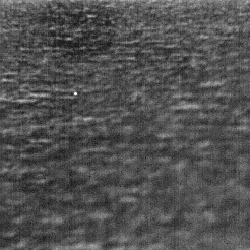dim target: (71, 90, 79, 96)
